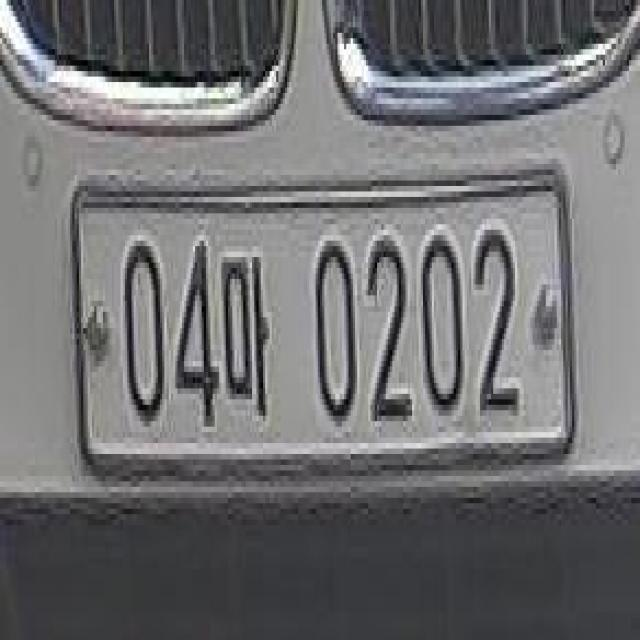illegal_plate: (74, 161, 576, 499)
